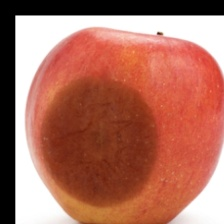apple: (34, 29, 176, 221)
